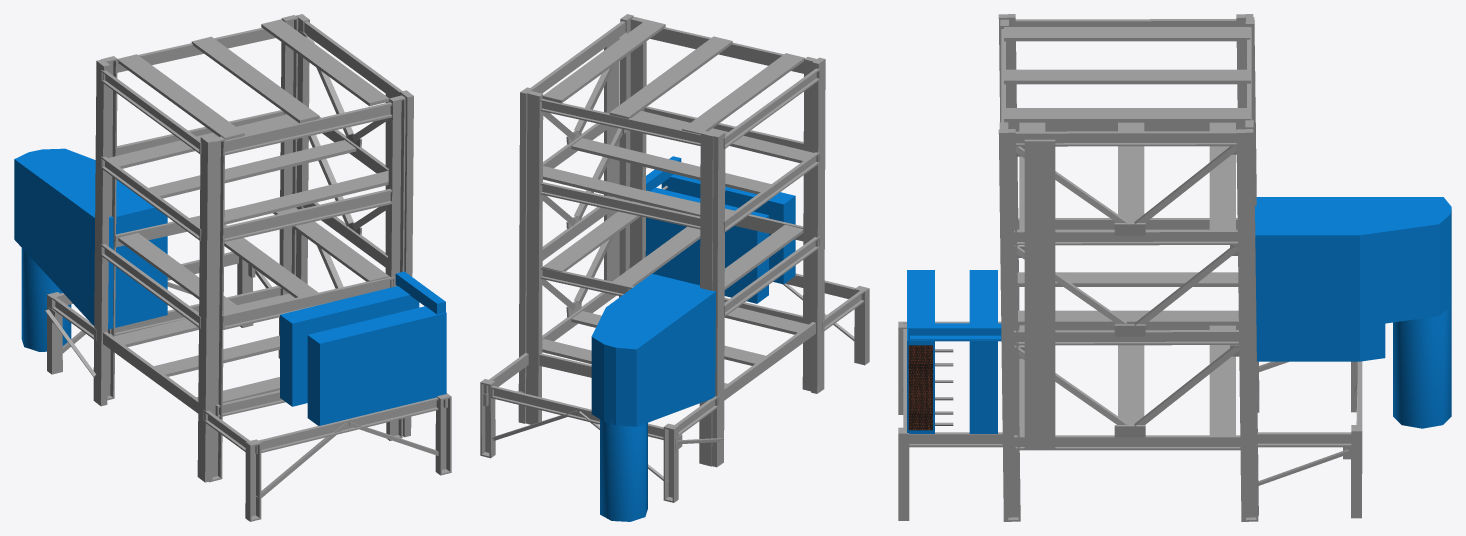
The model's file is power-generator.fbx.
3 views of the same model, side by side, from view 1: azimuth 30°, elevation 25°; view 2: azimuth 150°, elevation 25°; view 3: azimuth 270°, elevation 25° (orthographic). The views are drawn at different scales.
Visible parts, largest first — view 1: source_of_channel:left_box, source_of_channel:level_01_box2, source_of_channel:fraem_front (×4), source_of_channel:frame_front (×4), source_of_channel:level_1box, source_of_channel:channels_down (×3), channels_upper8, source_of_channel:channels_upper8, source_of_channel:pipe, roof_supporter2, roof_supporter9, roof_supporter (+29 smaller); view 2: source_of_channel:left_box, source_of_channel:fraem_front (×4), source_of_channel:frame_front (×4), source_of_channel:pipe, source_of_channel:level_1box, source_of_channel:channels_down (×4), source_of_channel:level_01_box2, roof_supporter9, roof_supporter2, roof_supporter, roof_supporter1, roof_supporter4 (+29 smaller); view 3: source_of_channel:left_box, source_of_channel:hieghter, source_of_channel:frame_front (×3), source_of_channel:fraem_front (×2), source_of_channel:pipe, source_of_channel:level_1box, roof_supporter, source_of_channel:channels_down (×2), roof_supporter1, roof_supporter9, source_of_channel:channels_upper6, source_of_channel:support_channel1 (×3) (+20 smaller).
Boxes of the visible parts, x1,y1,x2,y2 form: source_of_channel:left_box: (14, 148, 167, 329); source_of_channel:level_01_box2: (307, 306, 446, 425); source_of_channel:fraem_front (×4): (93, 14, 405, 440); source_of_channel:frame_front (×4): (101, 56, 413, 482); source_of_channel:level_1box: (280, 286, 419, 406); source_of_channel:channels_down (×3): (103, 285, 285, 417); channels_upper8: (221, 189, 395, 242); source_of_channel:channels_upper8: (221, 102, 392, 155); source_of_channel:pipe: (21, 248, 71, 351); roof_supporter2: (145, 140, 356, 199); roof_supporter9: (261, 19, 389, 106); roof_supporter: (191, 36, 319, 123); source_of_channel:left_box: (591, 274, 715, 426); source_of_channel:fraem_front (×4): (518, 16, 725, 467); source_of_channel:frame_front (×4): (619, 14, 825, 466); source_of_channel:pipe: (600, 419, 647, 521); source_of_channel:level_1box: (645, 187, 768, 303); source_of_channel:channels_down (×4): (539, 292, 815, 400); source_of_channel:level_01_box2: (661, 174, 795, 284); roof_supporter9: (542, 19, 665, 103); roof_supporter2: (571, 138, 773, 195); roof_supporter: (609, 36, 732, 118); roof_supporter1: (682, 53, 804, 134); roof_supporter4: (543, 166, 735, 222); source_of_channel:left_box: (1255, 197, 1451, 361); source_of_channel:hieghter: (1024, 139, 1055, 448); source_of_channel:frame_front (×3): (998, 14, 1259, 521); source_of_channel:fraem_front (×2): (1236, 14, 1258, 521); source_of_channel:pipe: (1393, 296, 1451, 428); source_of_channel:level_1box: (969, 270, 997, 433); roof_supporter: (1004, 69, 1250, 84); source_of_channel:channels_down (×2): (1014, 325, 1240, 450); roof_supporter1: (1004, 27, 1250, 41); roof_supporter9: (1004, 108, 1250, 122); source_of_channel:channels_upper6: (1015, 131, 1236, 146); source_of_channel:support_channel1 (×3): (1134, 143, 1239, 426).
Size of the model in its own units: 1631 by 2553 by 3235.
3 materials, 1 textured.
